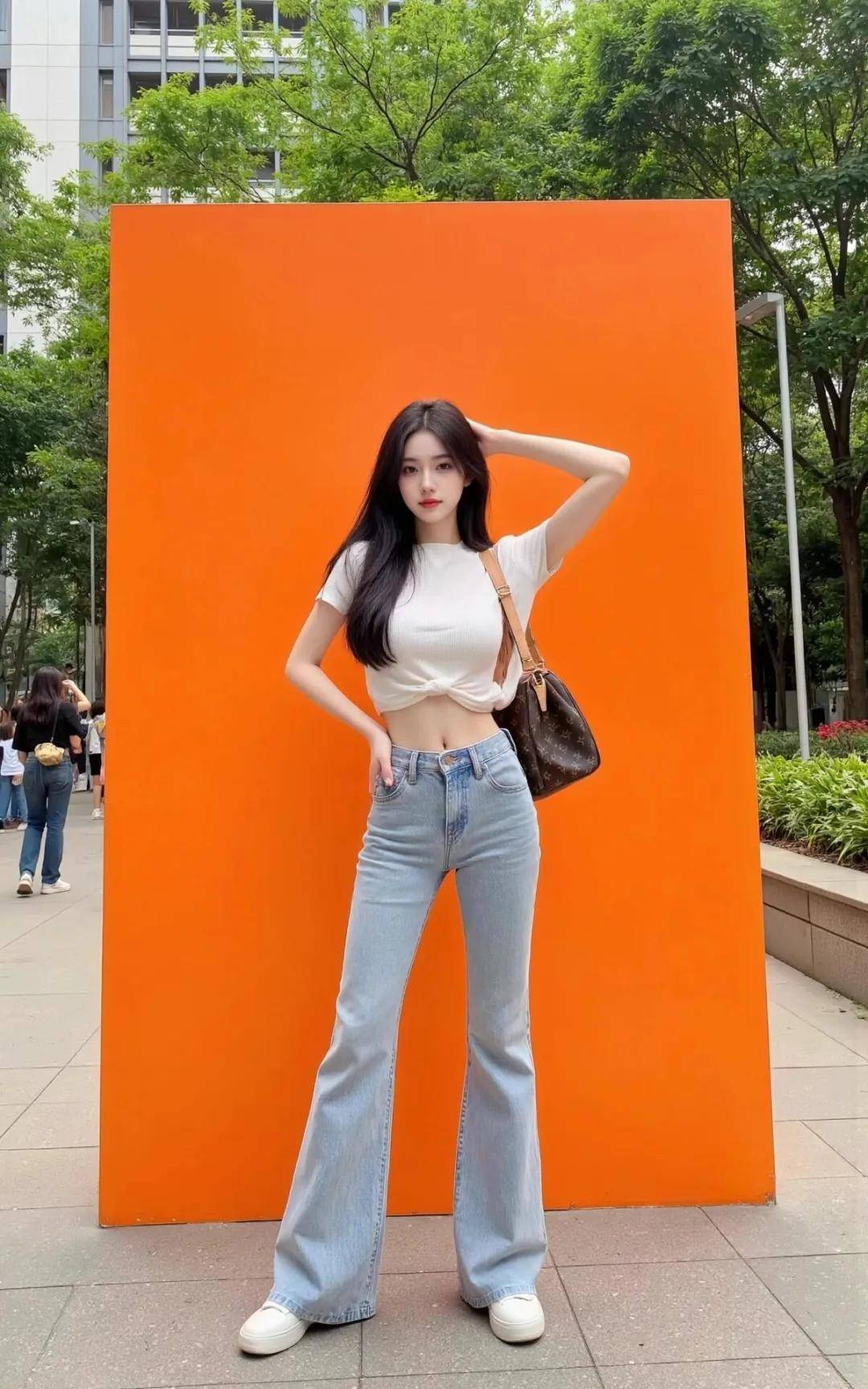up: (235, 375, 637, 1377)
